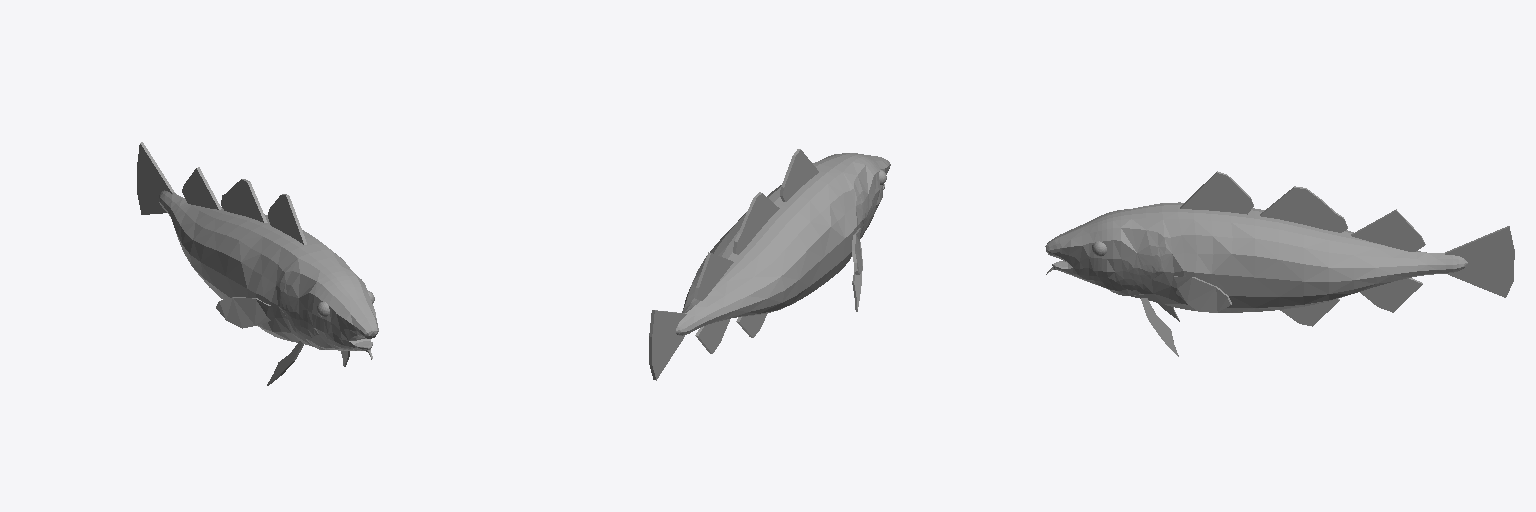
File: codfish.obj
3 renders of one model, left to right at view 1: azimuth 30°, elevation 25°; view 2: azimuth 150°, elevation 25°; view 3: azimuth 270°, elevation 25°, orthographic.
Visible parts, largest first — view 1: cod_rump_Cube.001, Fins_Plane; view 2: cod_rump_Cube.001, Fins_Plane; view 3: cod_rump_Cube.001, Fins_Plane.
Part boxes in pixels (bbox=[...]): cod_rump_Cube.001: bbox=[159, 190, 378, 359]; Fins_Plane: bbox=[137, 142, 349, 385]; cod_rump_Cube.001: bbox=[676, 153, 890, 335]; Fins_Plane: bbox=[649, 149, 862, 380]; cod_rump_Cube.001: bbox=[1045, 202, 1467, 312]; Fins_Plane: bbox=[1141, 171, 1514, 356].
Bounding box in the file's own units: 3.03 × 3.73 × 9.45.